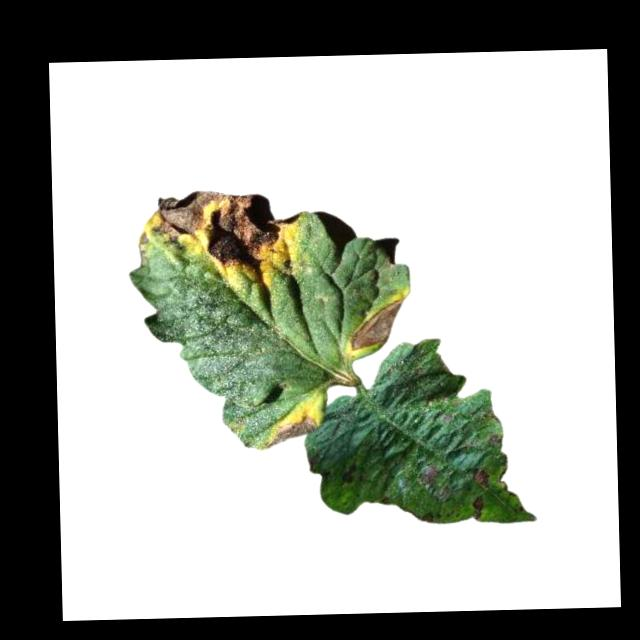Early_blight: (148, 185, 304, 291), (341, 295, 410, 353), (260, 412, 324, 450), (416, 464, 443, 489), (468, 470, 492, 495), (471, 497, 486, 521), (483, 433, 504, 448)
